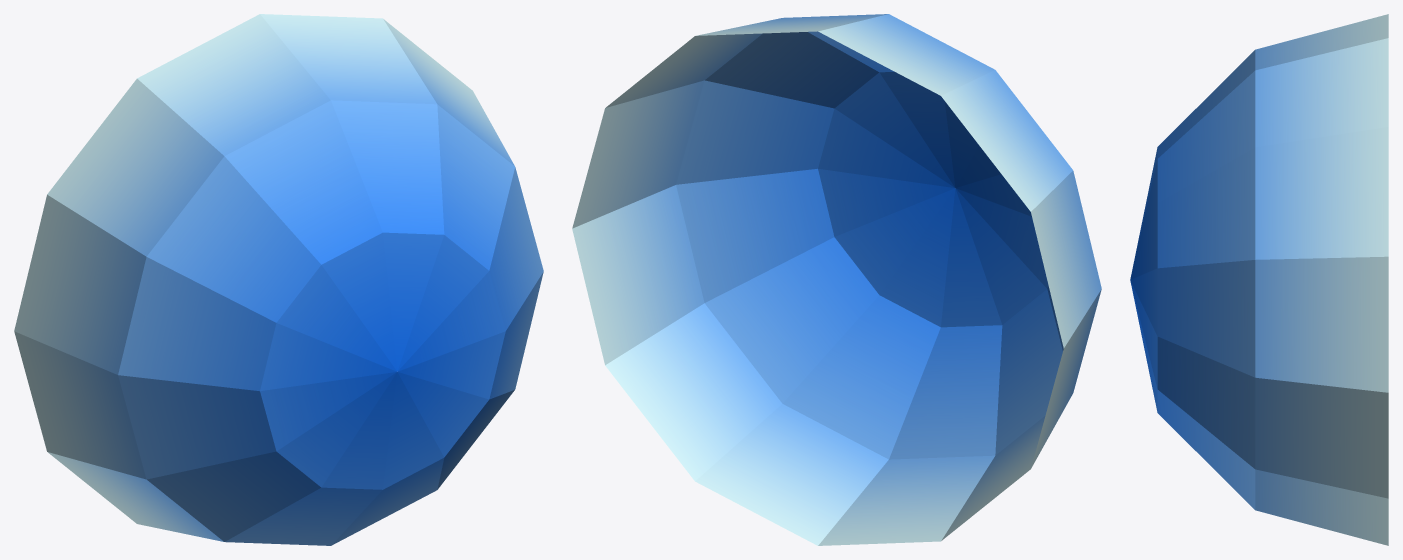
Rendered from gradientsphere.obj.
3 views of the same model, side by side, from view 1: azimuth 30°, elevation 25°; view 2: azimuth 150°, elevation 25°; view 3: azimuth 270°, elevation 25° (orthographic). The views are drawn at different scales.
Visible parts, largest first — view 1: Sphere01; view 2: Sphere01; view 3: Sphere01.
Boxes of the visible parts, <box> form: Sphere01: <box>14,14,543,545</box>; Sphere01: <box>572,14,1101,545</box>; Sphere01: <box>1130,14,1388,545</box>.
Bounding box in the file's own units: 200 × 200 × 96.82.
1 material, 1 textured.
